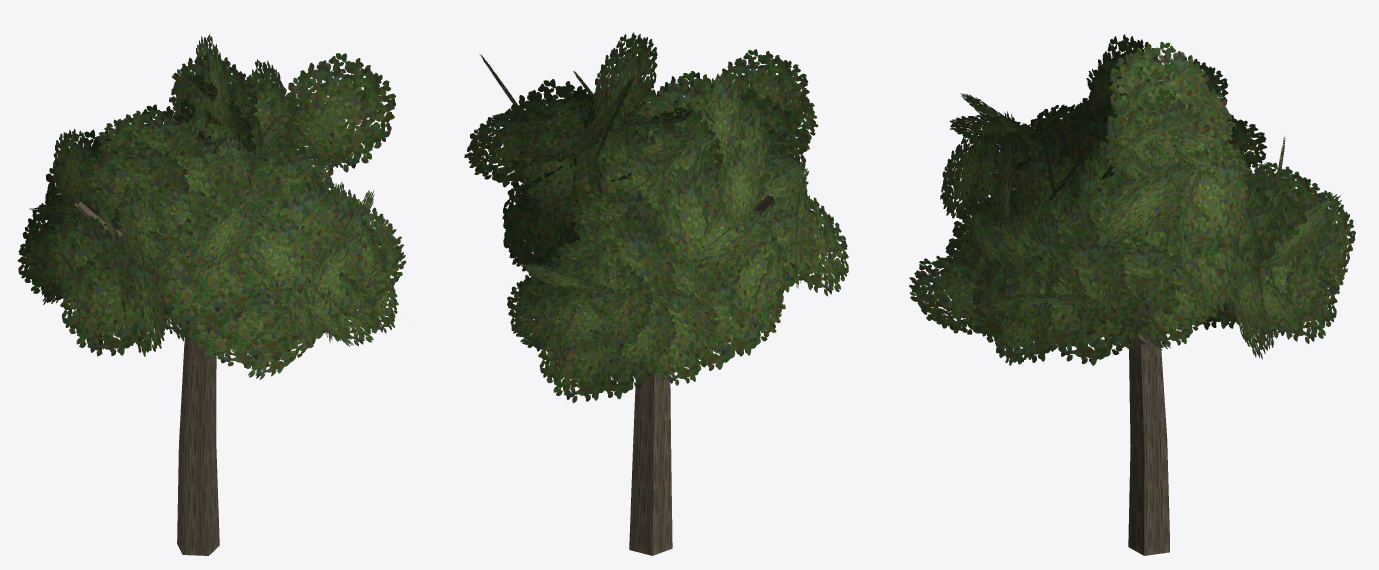
The model's file is Tree_Oak_1_LOD1.gltf.
The picture shows the model from 3 angles, left to right: view 1: azimuth 30°, elevation 25°; view 2: azimuth 150°, elevation 25°; view 3: azimuth 270°, elevation 25°; orthographic projection. The views are drawn at different scales.
Parts seen in each view (by area): view 1: Tree_Oak_1_LOD1; view 2: Tree_Oak_1_LOD1; view 3: Tree_Oak_1_LOD1.
Part boxes in pixels (left/top/right/bottom): Tree_Oak_1_LOD1: left=17, top=34, right=406, bottom=555; Tree_Oak_1_LOD1: left=464, top=32, right=848, bottom=555; Tree_Oak_1_LOD1: left=909, top=34, right=1355, bottom=555.
Size of the model in its own units: 16.74 by 22.32 by 18.83.
Materials: 2 (2 with a texture image).
